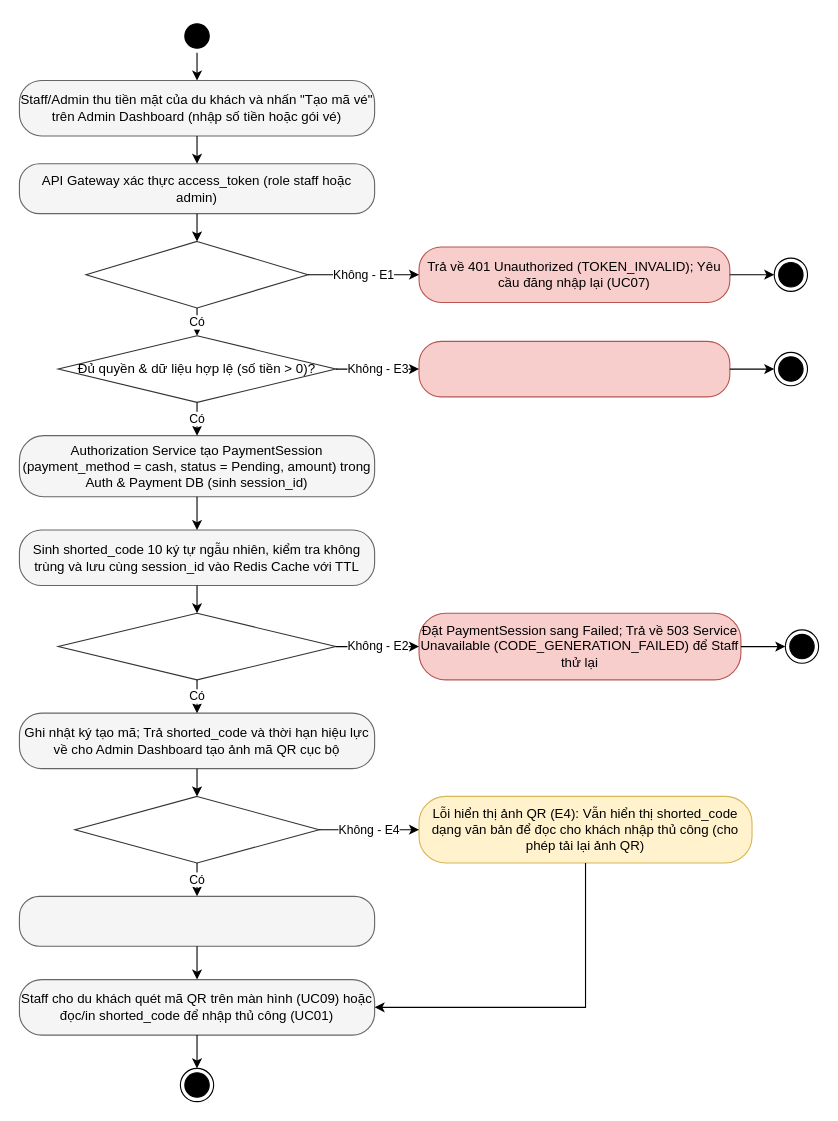
This 838x1121 diagram has some shape labels left out. The shapes that lost their labels are listed below. From the top down, each one's centre as x and y in pixels, then its label:
At (x=196, y=274): "Token hợp lệ?".
At (x=574, y=368): "Trả về 403 Forbidden (FORBIDDEN) hoặc 400 Bad Request (INVALID_INPUT)".
At (x=196, y=646): "Redis khả dụng & sinh được mã duy nhất?".
At (x=196, y=829): "Tạo/hiển thị được ảnh QR?".
At (x=196, y=920): "Hiển thị trên màn hình cả shorted_code dạng văn bản lẫn ảnh mã QR".
